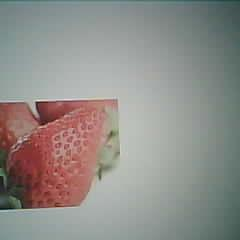straw-ripe: (1, 107, 107, 208)
